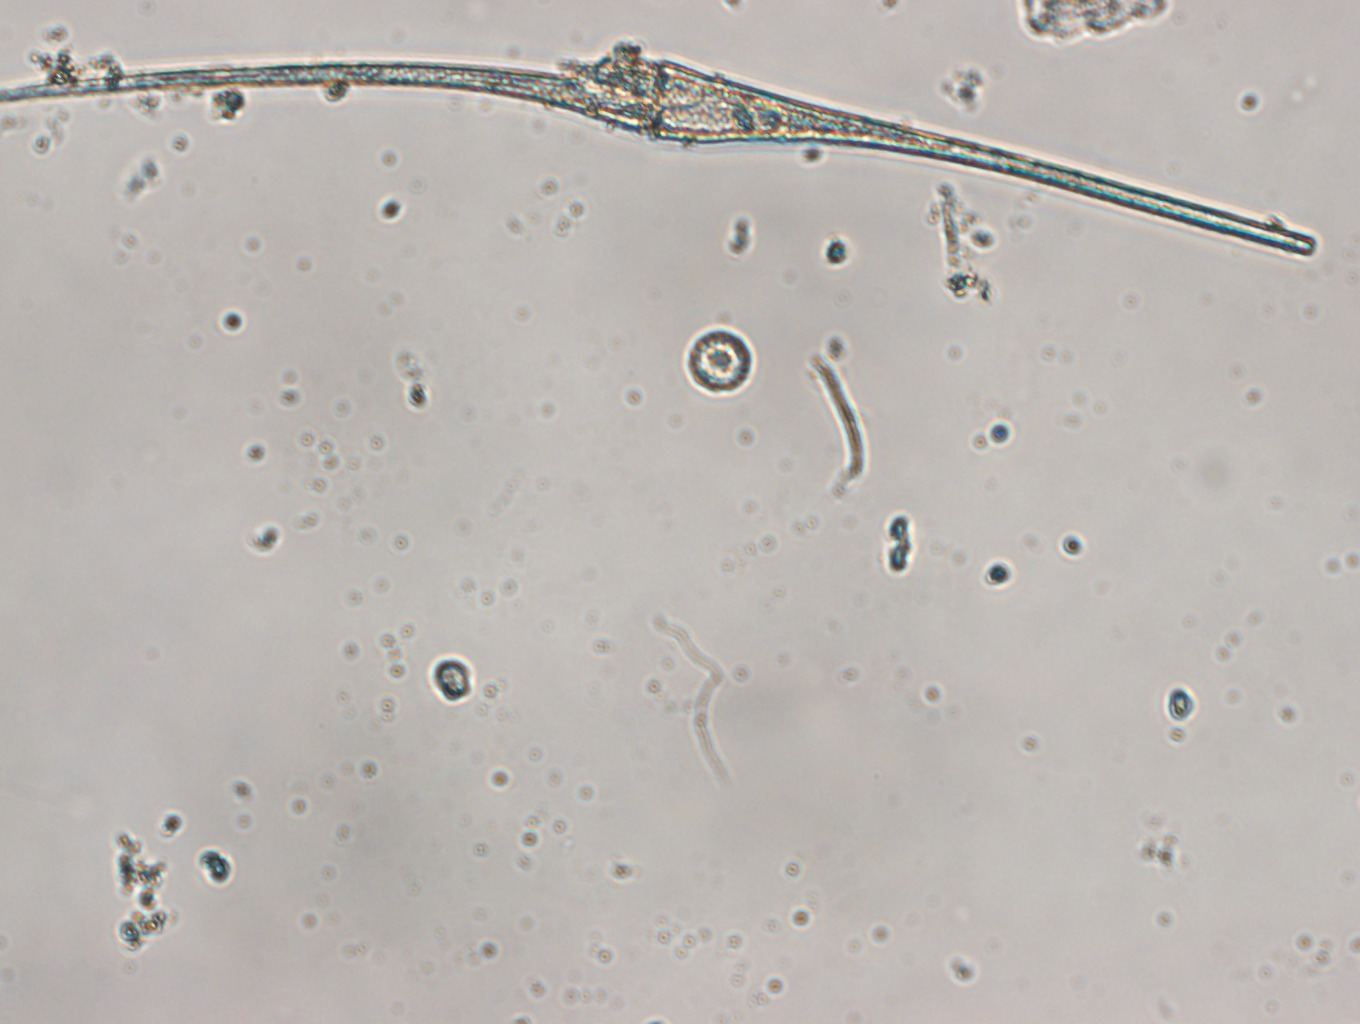ceratium fusus: (1, 52, 1322, 258)
